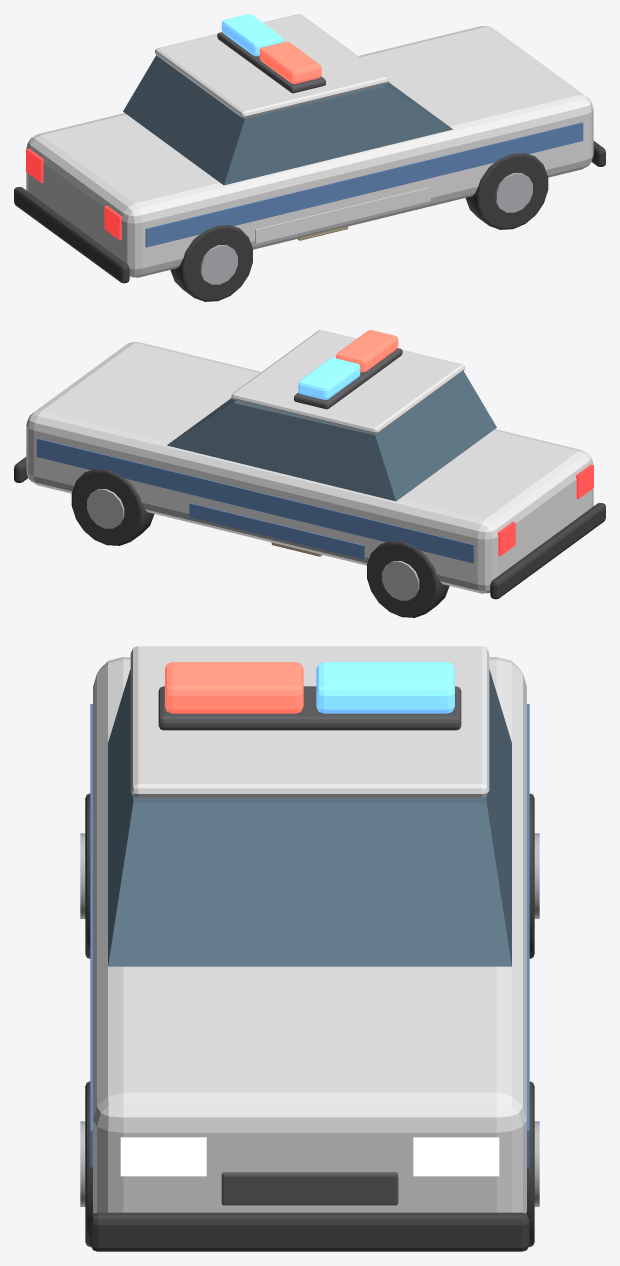
Rendered from props2.glb.
3 renders of one model, top to bottom at view 1: azimuth 30°, elevation 25°; view 2: azimuth 150°, elevation 25°; view 3: azimuth 270°, elevation 25°, orthographic. The views are drawn at different scales.
Visible parts, largest first — view 1: KEEP Police cruiser; view 2: KEEP Police cruiser; view 3: KEEP Police cruiser.
Part boxes in pixels (left/top/right/bottom): KEEP Police cruiser: left=14, top=14, right=605, bottom=301; KEEP Police cruiser: left=14, top=330, right=605, bottom=617; KEEP Police cruiser: left=80, top=646, right=539, bottom=1251.
Size of the model in its own units: 4.44 by 1.72 by 1.82.
